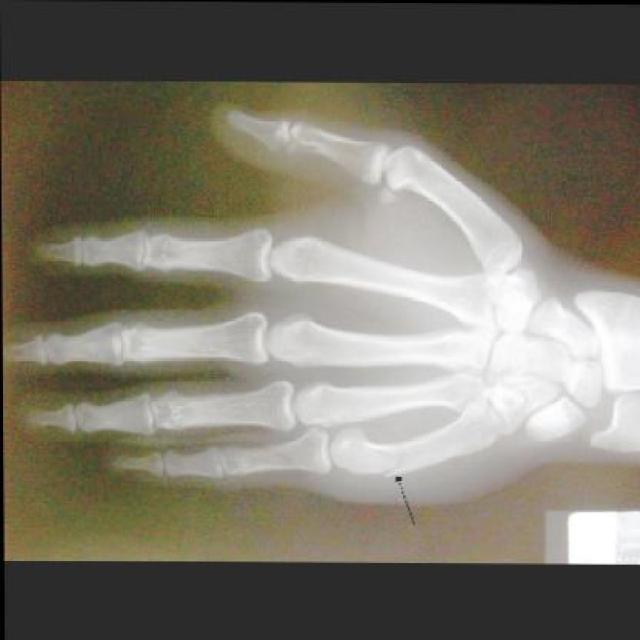Fracture: (380, 442, 414, 484)
